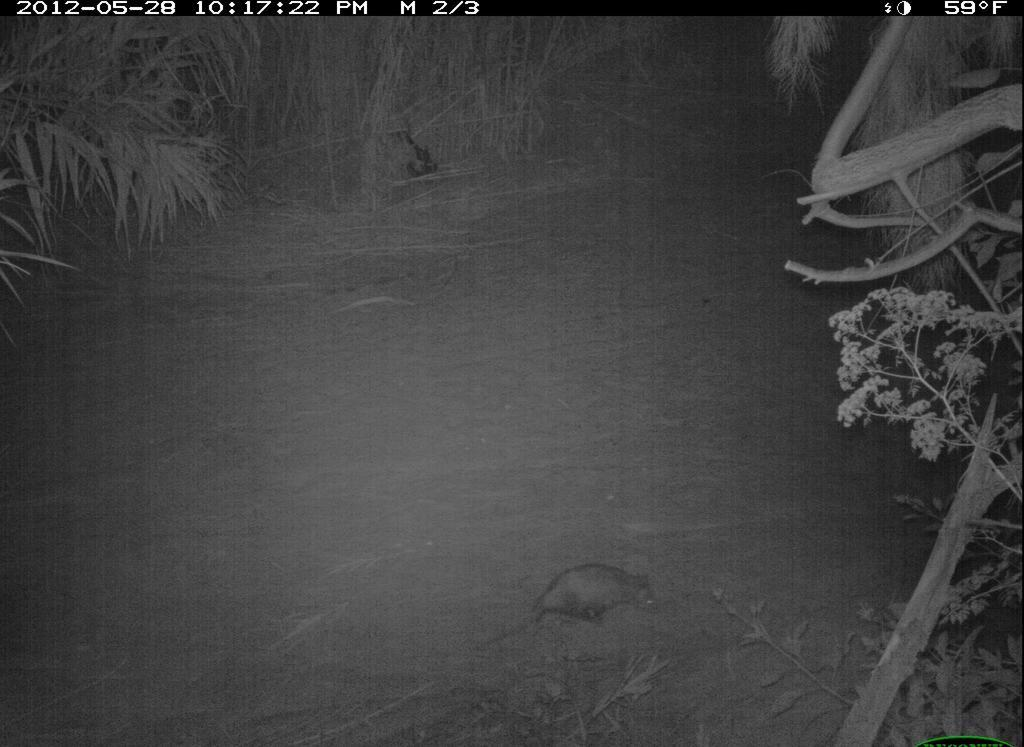opossum: (511, 559, 666, 639)
